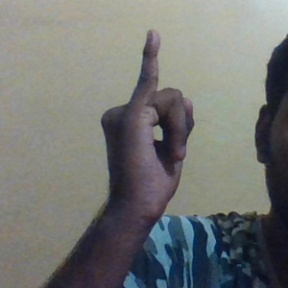I: (97, 27, 199, 212)
